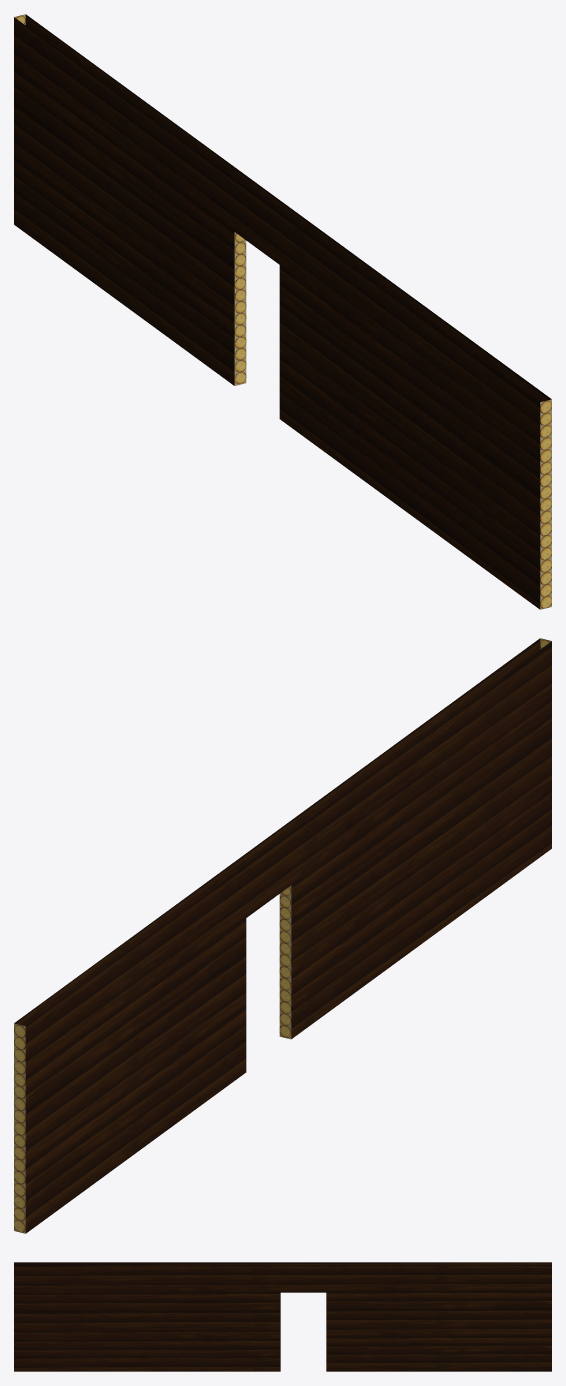
File: Wall with door house 3.fbx
3 views of the same model, one above another, from view 1: azimuth 30°, elevation 25°; view 2: azimuth 150°, elevation 25°; view 3: azimuth 270°, elevation 25° (orthographic). The views are drawn at different scales.
Parts seen in each view (by area): view 1: Long_wall_house_5; view 2: Long_wall_house_5; view 3: Long_wall_house_5.
Boxes of the visible parts, box(x1,y1,x2,y2) form: Long_wall_house_5: box(14, 14, 551, 609); Long_wall_house_5: box(14, 638, 551, 1233); Long_wall_house_5: box(14, 1262, 551, 1371).
Size of the model in its own units: 0.1702 by 2.87 by 13.19.
